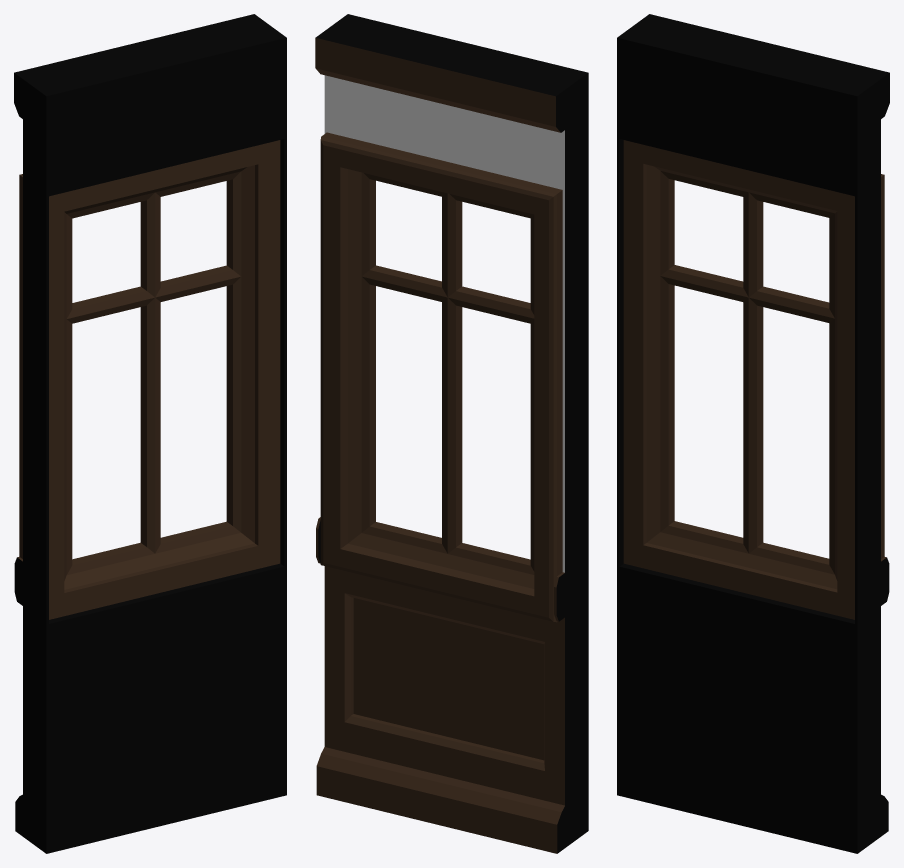
File: Wall_01_Window_half.fbx
3 renders of one model, left to right at view 1: azimuth 30°, elevation 25°; view 2: azimuth 150°, elevation 25°; view 3: azimuth 330°, elevation 25°, orthographic.
Visible parts, largest first — view 1: Cube.118; view 2: Cube.118; view 3: Cube.118.
Boxes of the visible parts, x1,y1,x2,y2 form: Cube.118: [14, 14, 286, 853]; Cube.118: [315, 14, 588, 853]; Cube.118: [617, 14, 889, 853].
Bounding box in the file's own units: 0.2334 × 1 × 3.01.
